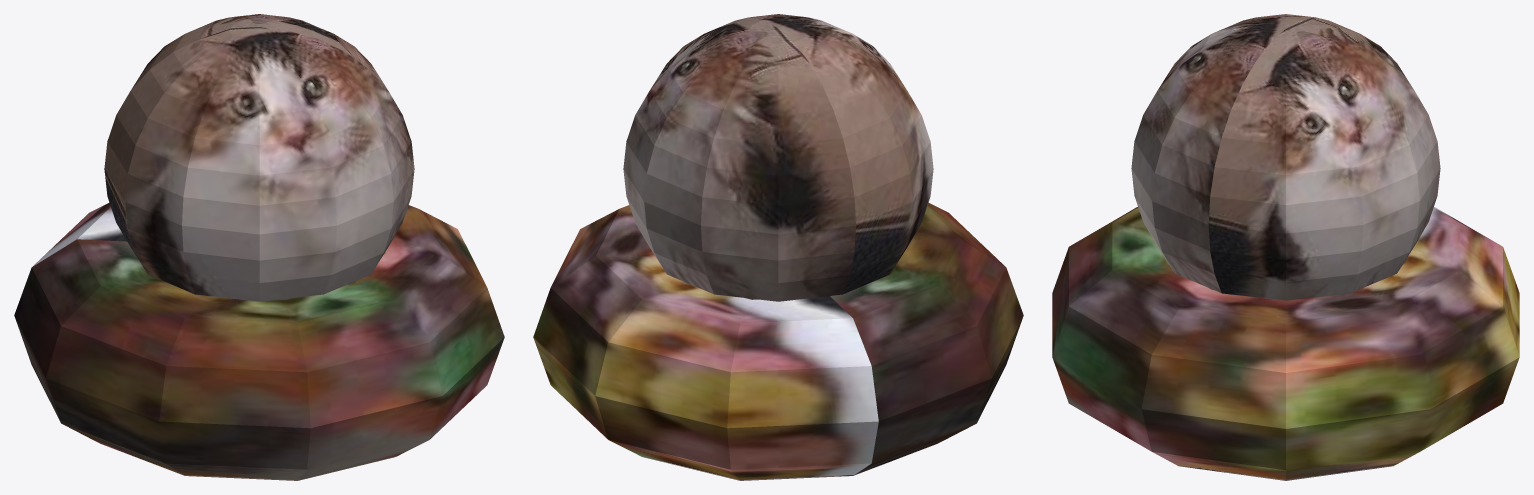
File: loopcat.fbx
3 views of the same model, side by side, from view 1: azimuth 30°, elevation 25°; view 2: azimuth 150°, elevation 25°; view 3: azimuth 270°, elevation 25° (orthographic).
Parts seen in each view (by area): view 1: Torus, Sphere; view 2: Torus, Sphere; view 3: Torus, Sphere.
Boxes of the visible parts, x1,y1,x2,y2 form: Torus: (14, 202, 504, 480); Sphere: (104, 14, 414, 301); Torus: (533, 202, 1023, 480); Sphere: (623, 14, 933, 301); Torus: (1052, 207, 1519, 480); Sphere: (1131, 14, 1440, 300).
Size of the model in its own units: 318 by 268 by 302.
